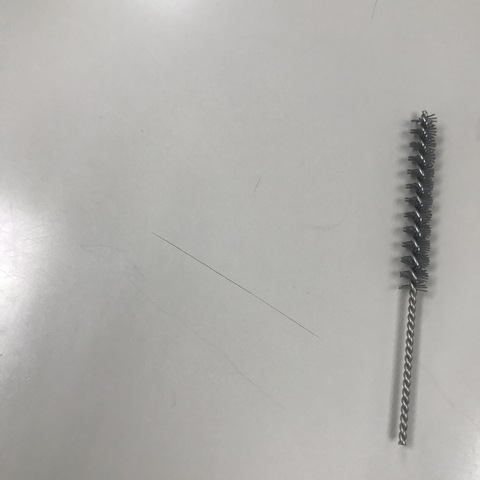Twist Brush-A: (397, 107, 442, 448)
